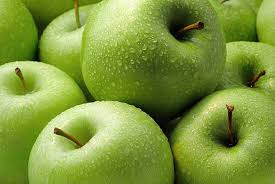apple: (86, 2, 223, 115), (169, 91, 274, 184), (40, 106, 161, 184), (7, 63, 86, 153), (37, 6, 116, 82), (216, 31, 275, 99)
